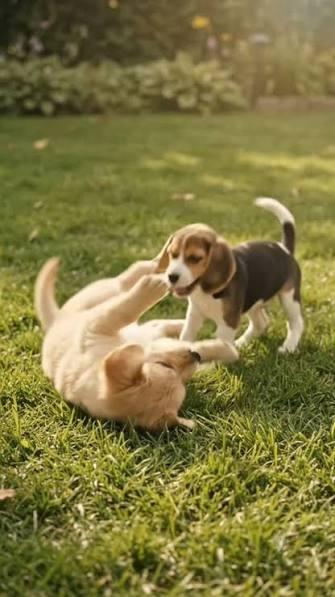puppy-dog: (34, 256, 239, 430), (158, 196, 304, 353)
